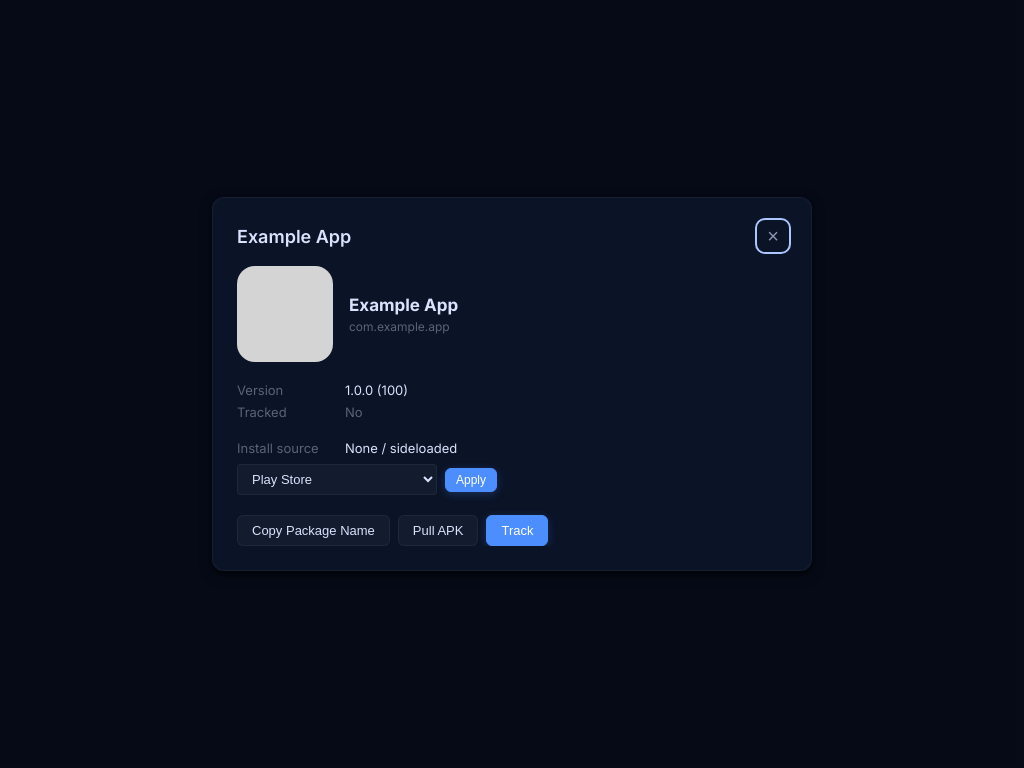
AppDetailModal — install source › surfaces an error when the PUT fails
The width and height of the screenshot is (1024, 768).
Expected: the text with test id "app-detail-install-source-current" reads "None / sideloaded", [345, 440, 457, 456]
Select "Play Store" in the dropdown with test id "app-detail-install-source-select": (337, 480) [237, 464, 437, 495]
Click the button with test id "app-detail-install-source-apply": click(471, 480) [445, 468, 497, 492]
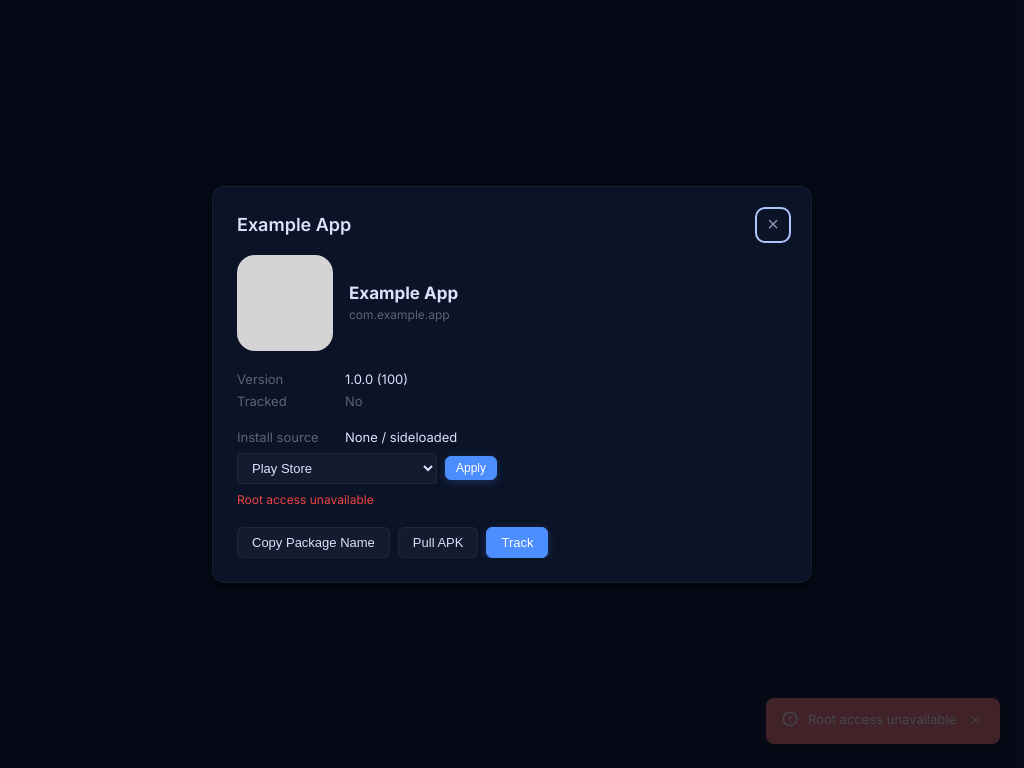
Expected: the text with test id "app-detail-install-source-error" reads "Root access unavailable", [237, 492, 374, 506]
